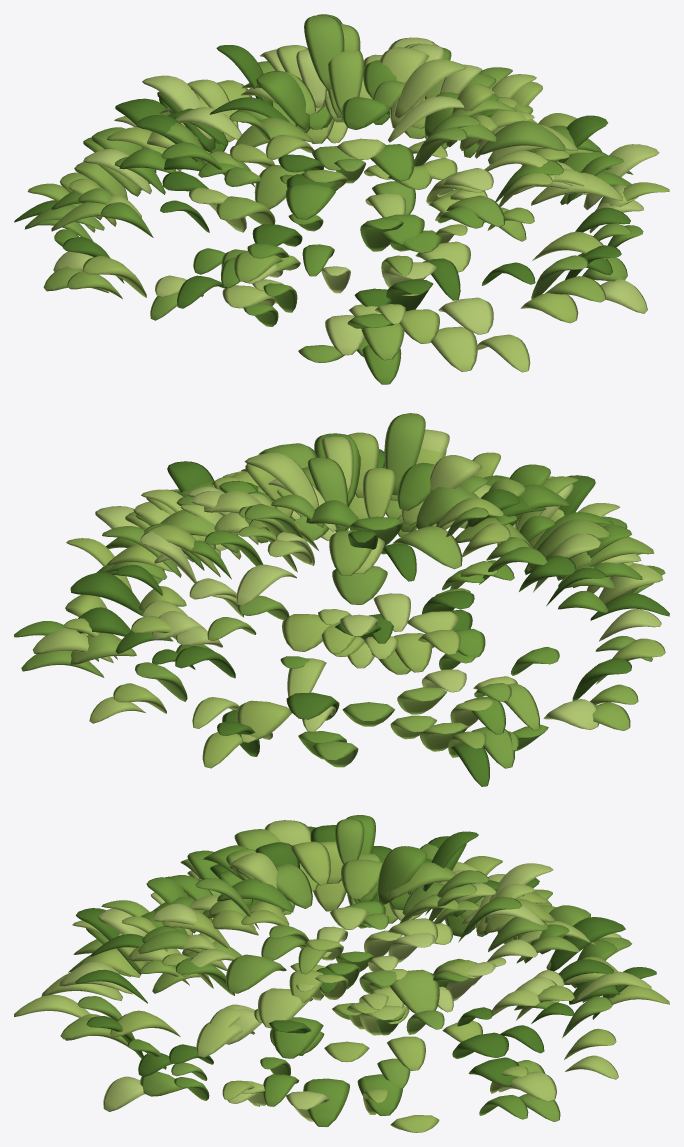
The picture shows the model from 3 angles, top to bottom: view 1: azimuth 30°, elevation 25°; view 2: azimuth 150°, elevation 25°; view 3: azimuth 270°, elevation 25°; orthographic projection. The views are drawn at different scales.
Visible parts, largest first — view 1: 晨露阔叶灌木丛; view 2: 晨露阔叶灌木丛; view 3: 晨露阔叶灌木丛.
Part boxes in pixels (<box>): 晨露阔叶灌木丛: <box>14,14,669,384</box>; 晨露阔叶灌木丛: <box>14,413,669,786</box>; 晨露阔叶灌木丛: <box>14,815,669,1132</box>.
Bounding box in the file's own units: 1.55 × 0.4845 × 1.65.
